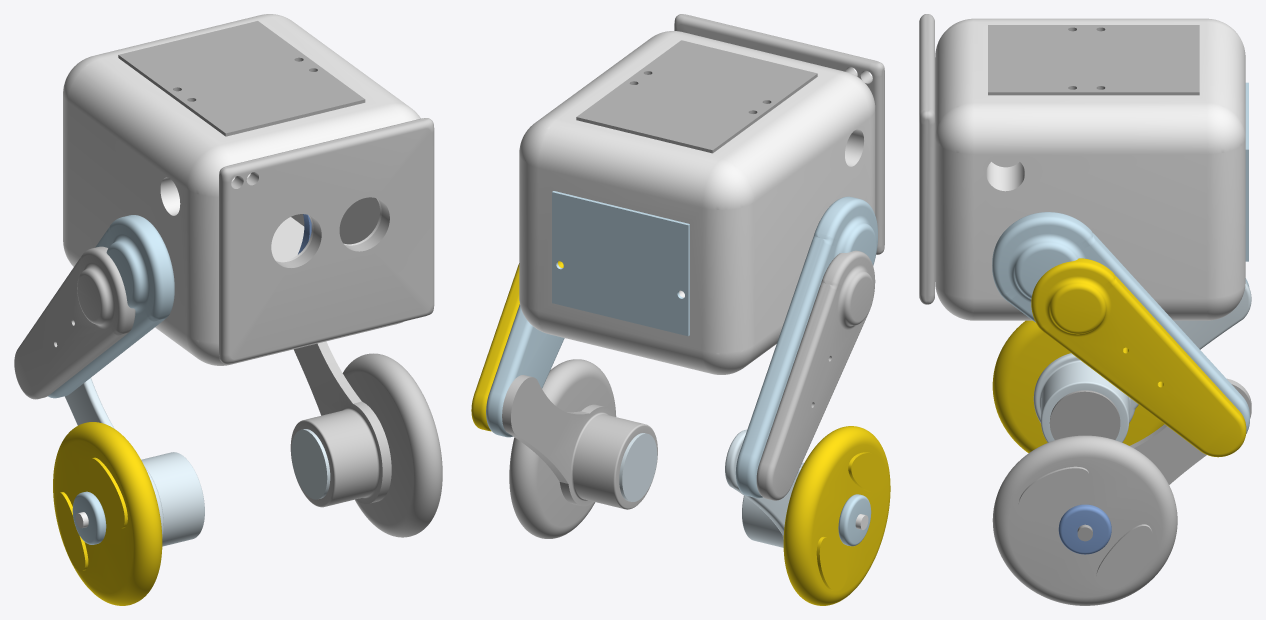
File: self balancing full assembly.glb
3 views of the same model, side by side, from view 1: azimuth 30°, elevation 25°; view 2: azimuth 150°, elevation 25°; view 3: azimuth 270°, elevation 25° (orthographic). The views are drawn at different scales.
Parts seen in each view (by area): view 1: Surface 16, Surface 14, Part 9, Part 10, Part 12, Surface 22, Surface 6, Surface 21, Surface 17, Surface 9, Part 11; view 2: Surface 16, Surface 13, Part 9, Part 10, Surface 22, Surface 6, Surface 21, Part 12, Surface 14, Surface 5, Surface 17, Surface 4 (+2 smaller); view 3: Surface 16, Part 12, Surface 4, Part 9, Surface 5, Part 10, Surface 17, Surface 14, Surface 11, Surface 6, Part 13, Surface 13.
Part boxes in pixels (<box>): Surface 16: <box>63,14,420,365</box>; Surface 14: <box>219,118,434,364</box>; Part 9: <box>118,21,365,136</box>; Part 10: <box>53,422,162,605</box>; Part 12: <box>342,353,442,537</box>; Surface 22: <box>14,246,135,399</box>; Surface 6: <box>290,341,391,507</box>; Surface 21: <box>48,215,174,398</box>; Surface 17: <box>64,378,204,546</box>; Surface 9: <box>291,429,330,499</box>; Part 11: <box>72,491,106,544</box>; Surface 16: <box>519,31,875,374</box>; Surface 13: <box>552,191,689,336</box>; Part 9: <box>576,40,817,153</box>; Part 10: <box>783,426,890,605</box>; Surface 22: <box>756,250,875,500</box>; Surface 6: <box>502,375,657,509</box>; Surface 21: <box>735,196,877,498</box>; Part 12: <box>509,359,616,538</box>; Surface 14: <box>674,14,884,254</box>; Surface 5: <box>486,304,564,437</box>; Surface 17: <box>725,429,803,547</box>; Surface 4: <box>471,263,519,431</box>; Surface 16: <box>935,18,1245,320</box>; Part 12: <box>992,435,1177,605</box>; Surface 4: <box>1031,258,1246,457</box>; Part 9: <box>988,25,1199,95</box>; Surface 5: <box>992,212,1249,433</box>; Part 10: <box>992,320,1164,453</box>; Surface 17: <box>1033,282,1251,442</box>; Surface 14: <box>919,14,934,304</box>; Surface 11: <box>1049,390,1120,439</box>; Surface 6: <box>1130,378,1251,484</box>; Part 13: <box>1058,504,1111,554</box>; Surface 13: <box>1245,82,1248,261</box>.
Size of the model in its own units: 0.1086 by 0.1494 by 0.0942.
